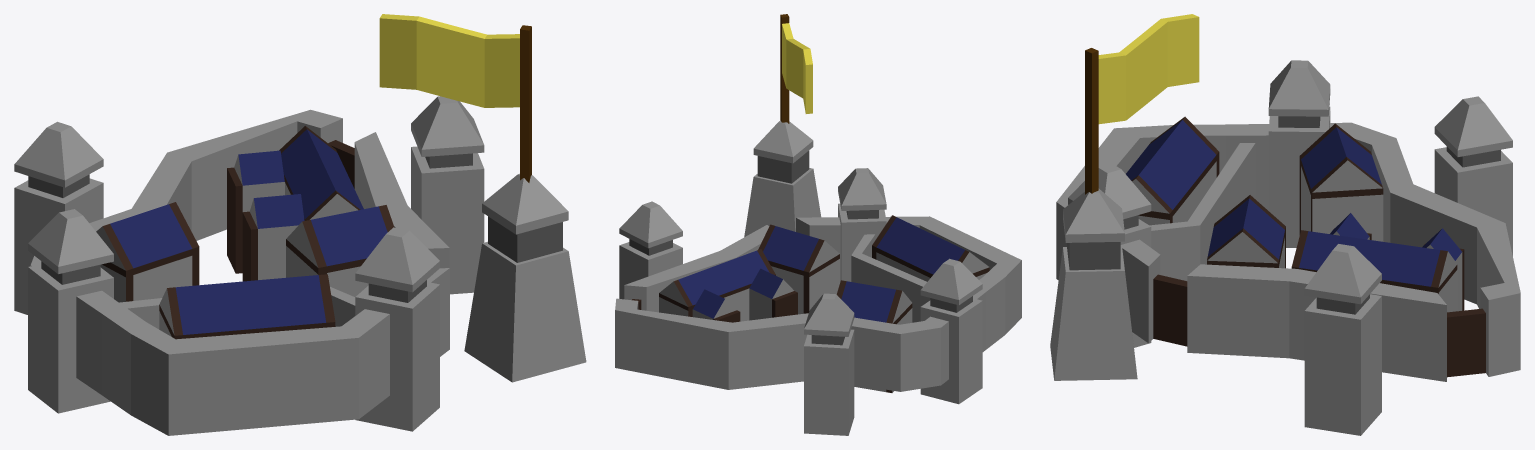
File: SM_TileP2Base.fbx
3 renders of one model, left to right at view 1: azimuth 30°, elevation 25°; view 2: azimuth 150°, elevation 25°; view 3: azimuth 270°, elevation 25°, orthographic. The views are drawn at different scales.
Parts seen in each view (by area): view 1: TileP2Base, TileP2BaseFlag; view 2: TileP2Base, TileP2BaseFlag; view 3: TileP2Base, TileP2BaseFlag.
Part boxes in pixels (<box>): TileP2Base: <box>14,96,586,435</box>; TileP2BaseFlag: <box>379,14,531,182</box>; TileP2Base: <box>615,120,1021,435</box>; TileP2BaseFlag: <box>780,14,812,123</box>; TileP2Base: <box>1050,60,1520,435</box>; TileP2BaseFlag: <box>1085,14,1199,194</box>.
Bounding box in the file's own units: 438 × 329 × 408.
